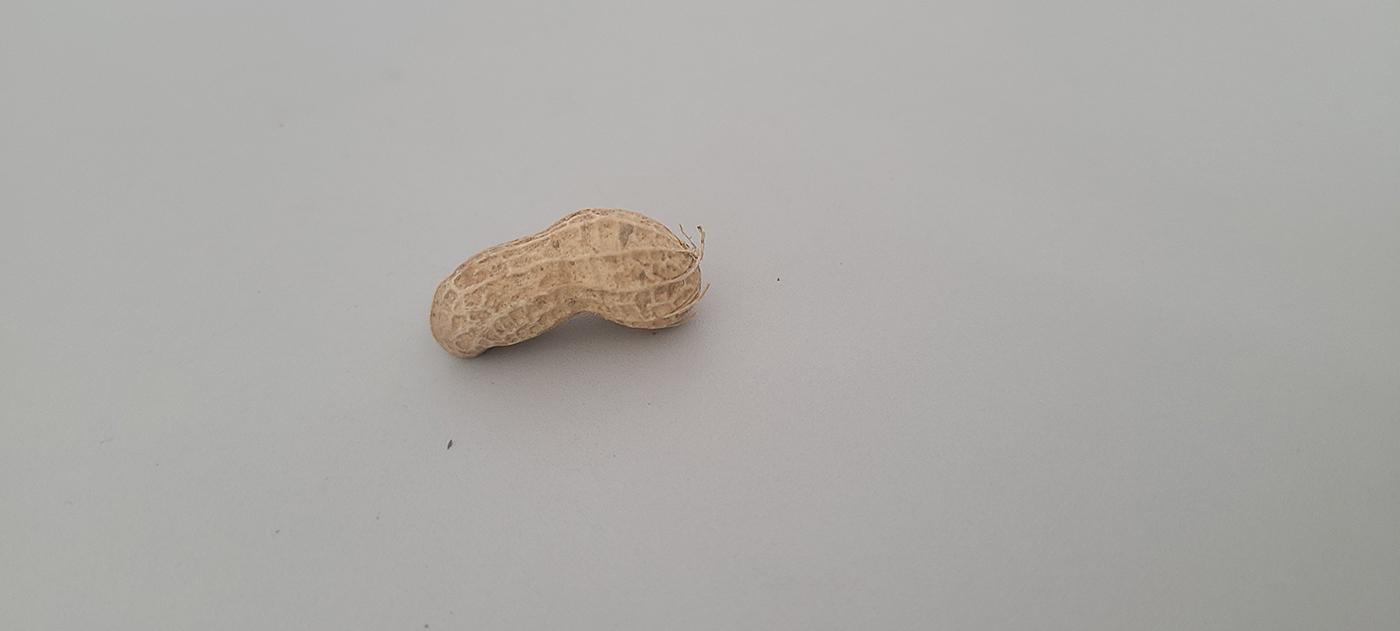h: (426, 204, 704, 362)
